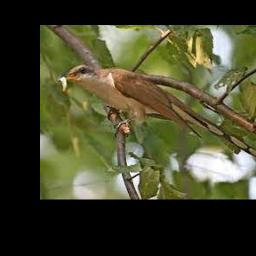Cuckoo: (58, 65, 256, 159)
